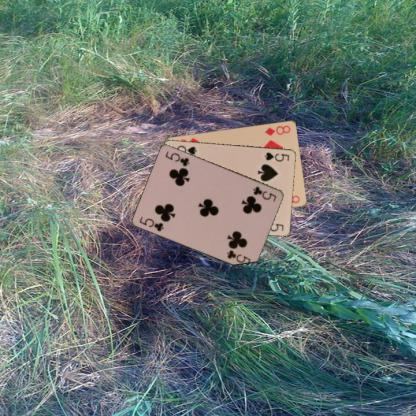5c: (251, 184, 278, 203), (137, 214, 165, 232)
5s: (262, 150, 291, 163)
8d: (262, 122, 292, 137)
